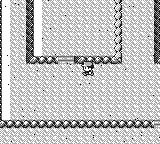main: (81, 61, 94, 76)
salto: (73, 0, 122, 65), (26, 0, 57, 64), (0, 120, 154, 128), (154, 0, 160, 63)
